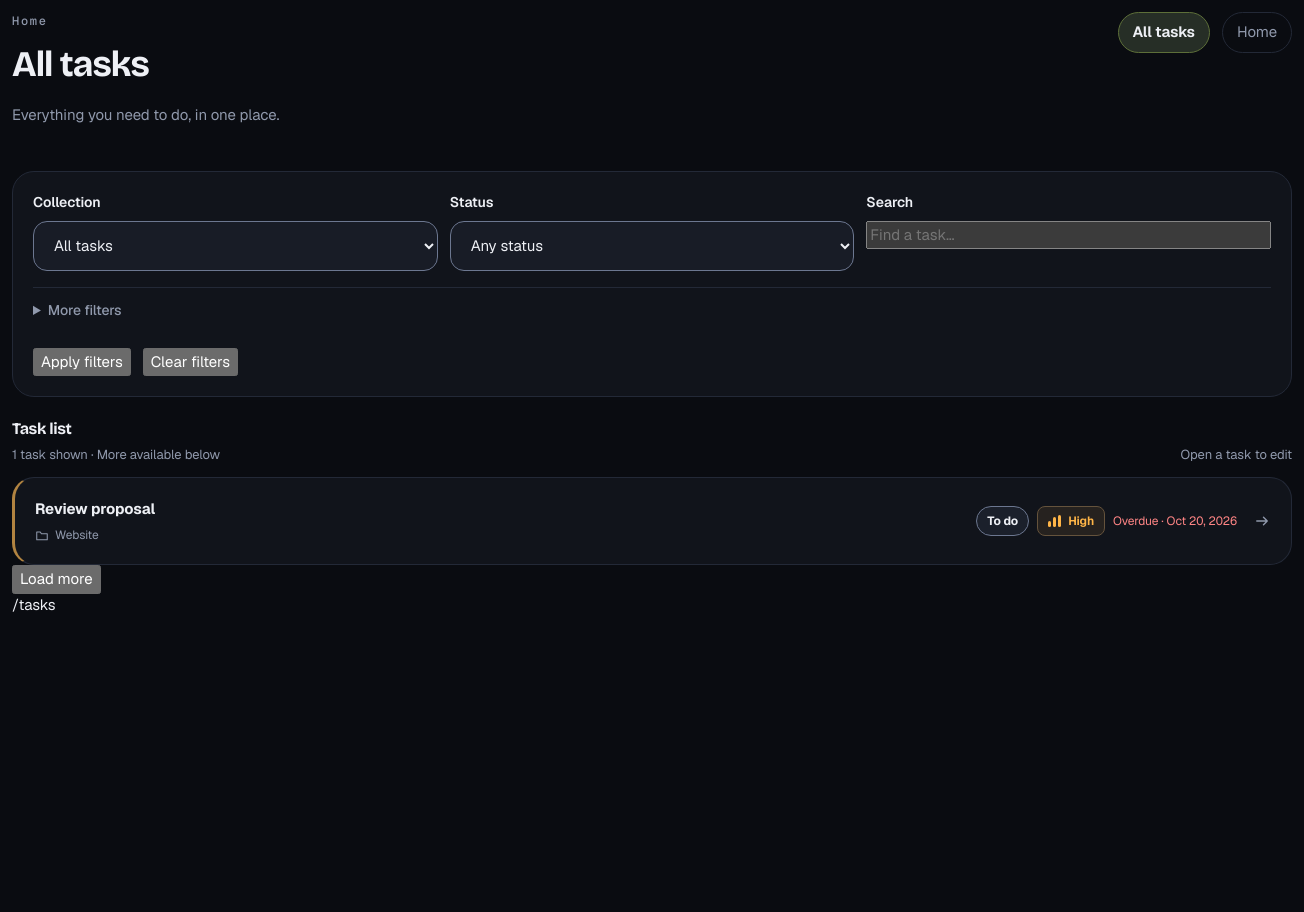
it: AllTasksPage › appends cursor results only when requested by Load more
The width and height of the screenshot is (1304, 912).
expect the link "Review proposal Website To do High Overdue · Oct 20, 2026" is shown: met, box [12, 476, 1292, 565]
Click the button with test id "global-task-load-more".
click(56, 579)  # box [12, 565, 100, 594]
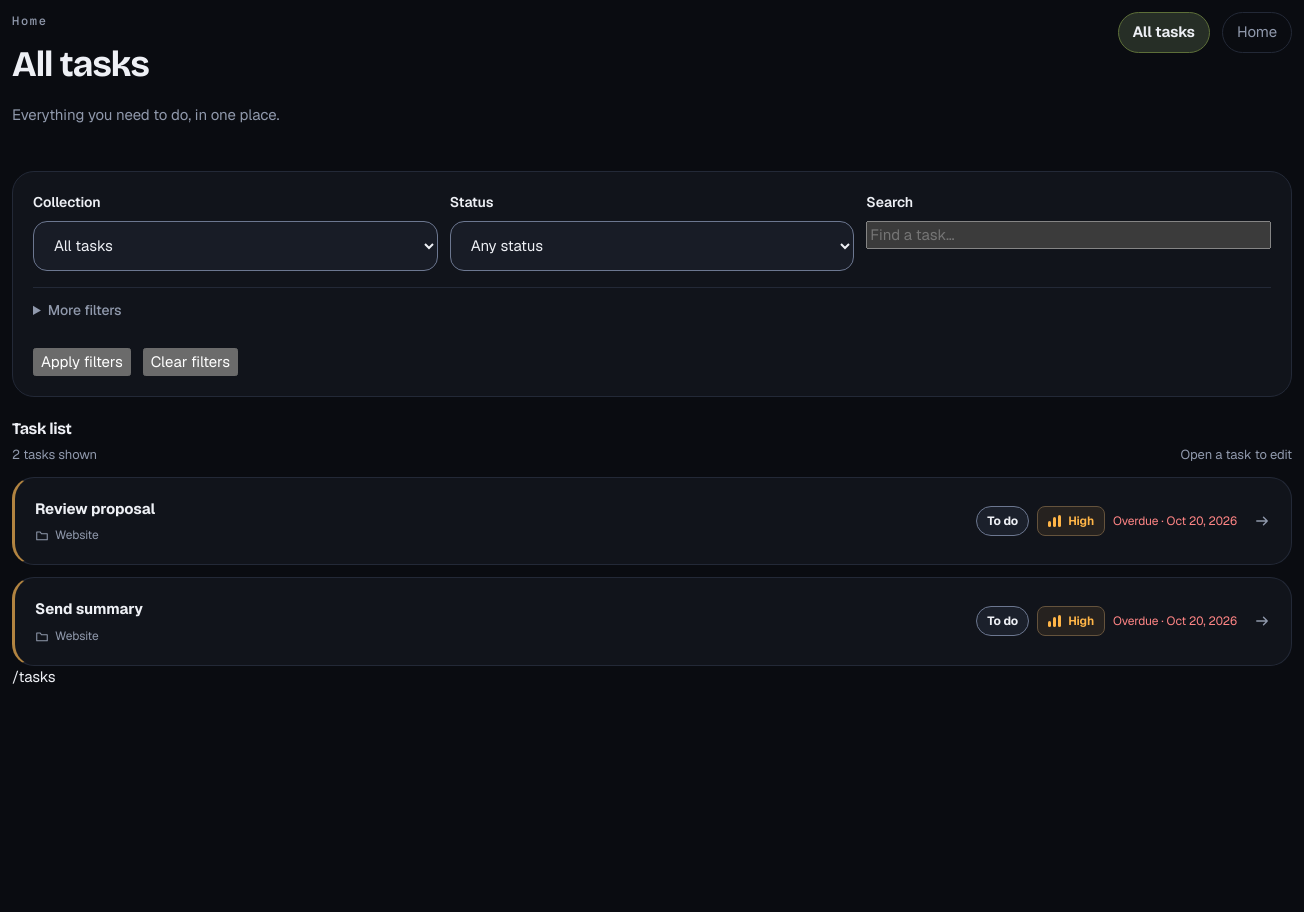
expect the link "Send summary Website To do High Overdue · Oct 20, 2026" is shown: met, box [12, 577, 1292, 666]
